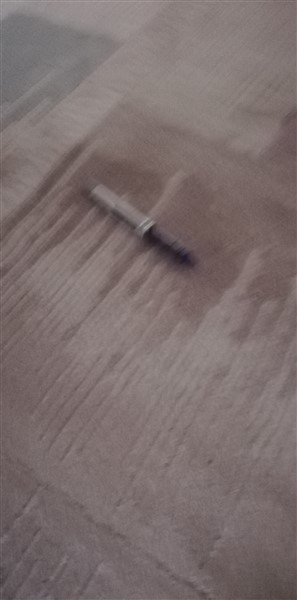pilot kalem: (84, 176, 204, 272)
